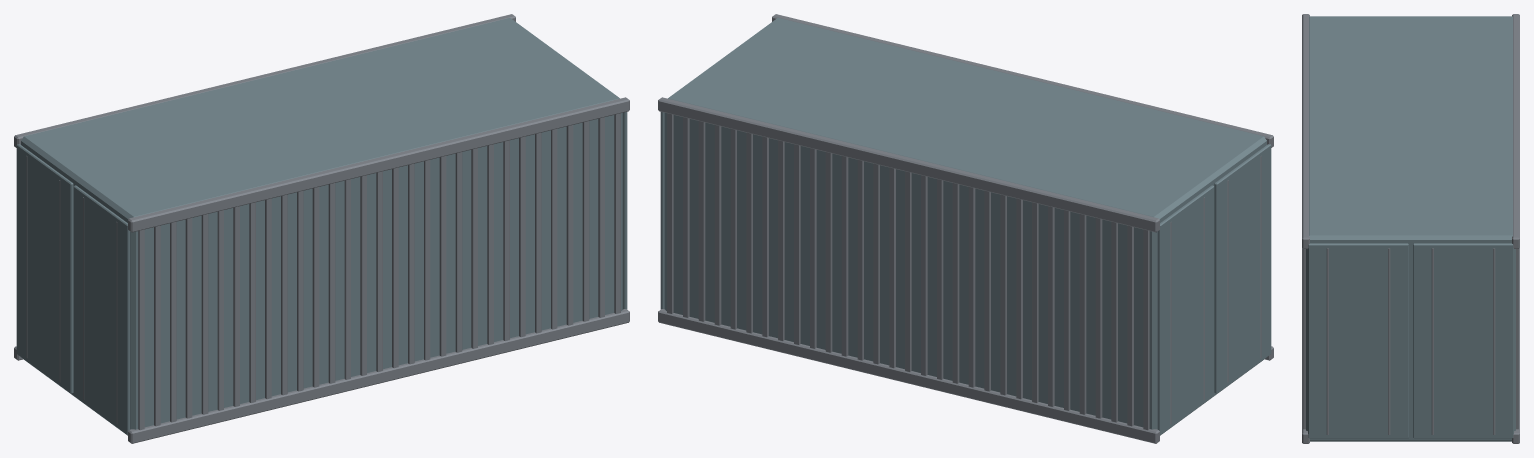
Rendered from container.glb.
The picture shows the model from 3 angles, left to right: view 1: azimuth 30°, elevation 25°; view 2: azimuth 150°, elevation 25°; view 3: azimuth 270°, elevation 25°; orthographic projection. The views are drawn at different scales.
Visible parts, largest first — view 1: container; view 2: container; view 3: container.
Boxes of the visible parts, x1,y1,x2,y2 form: container: (14,14,629,443); container: (658,14,1273,443); container: (1302,14,1519,443).
Bounding box in the file's own units: 6.1 × 2.6 × 2.49.
